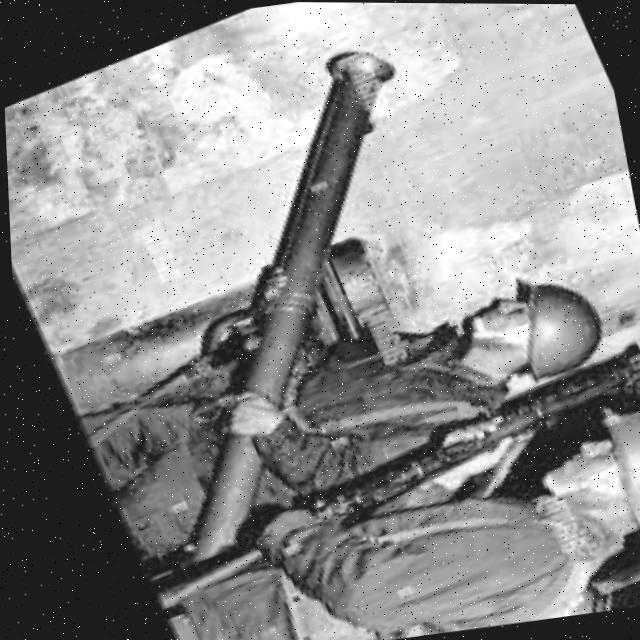rocket: (1, 19, 575, 594)
